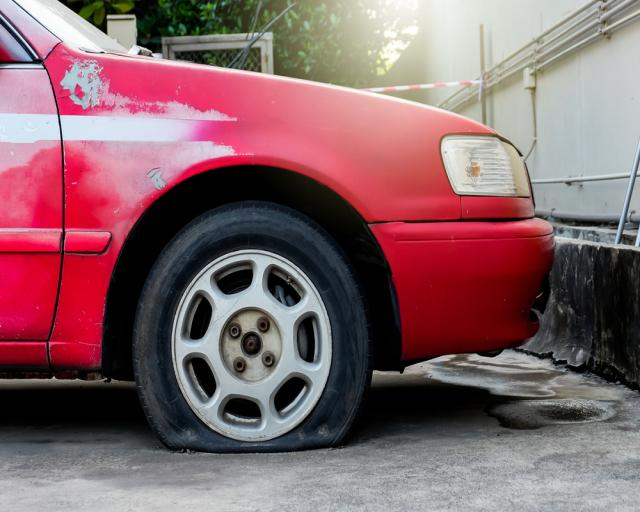tire flat: (134, 200, 374, 451)
